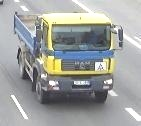truck: (14, 11, 124, 104)
